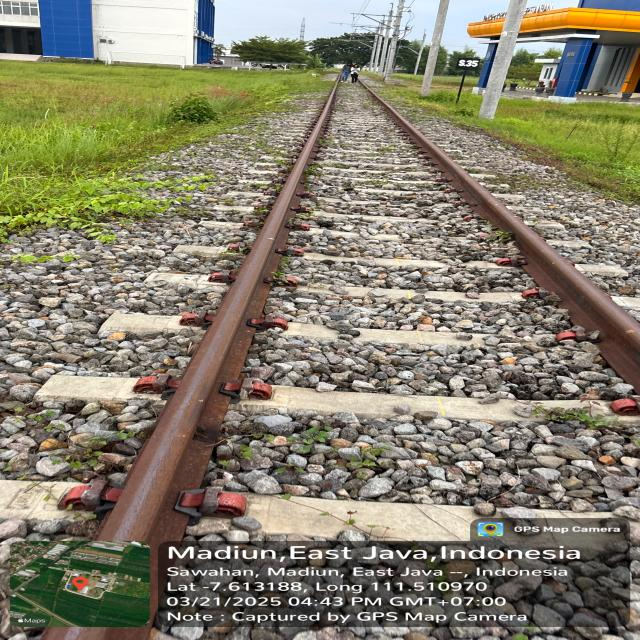rail-detection: (100, 104, 329, 616), (369, 91, 640, 393), (45, 617, 152, 640)
